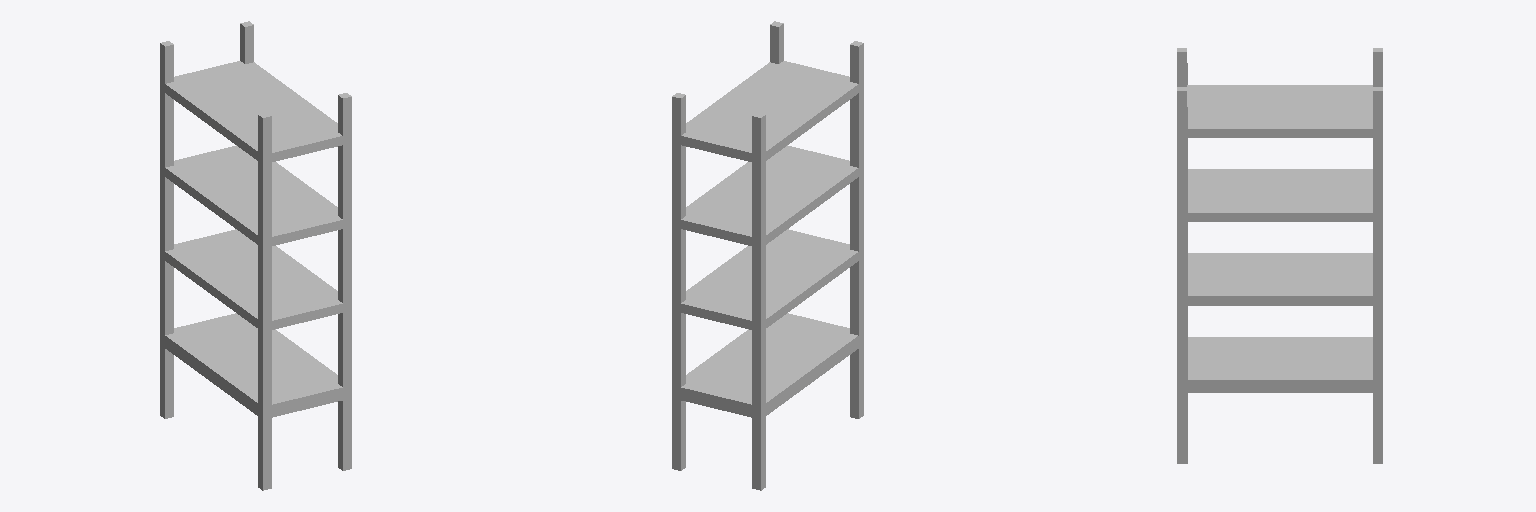
The model's file is Estanteria.obj.
The picture shows the model from 3 angles: view 1: azimuth 30°, elevation 25°; view 2: azimuth 150°, elevation 25°; view 3: azimuth 270°, elevation 25°; orthographic projection.
Parts seen in each view (by area): view 1: Cube; view 2: Cube; view 3: Cube.
Boxes of the visible parts, x1=… form: Cube: x1=160, y1=21, x2=351, y2=490; Cube: x1=672, y1=21, x2=863, y2=490; Cube: x1=1177, y1=48, x2=1382, y2=463.
Bounding box in the file's own units: 1 × 4 × 2.